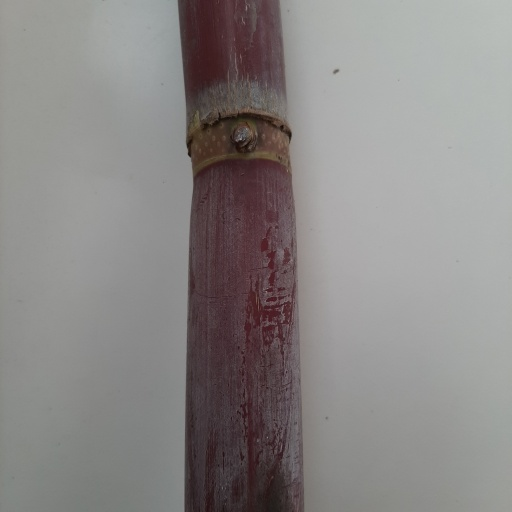Bud: (230, 118, 259, 157)
